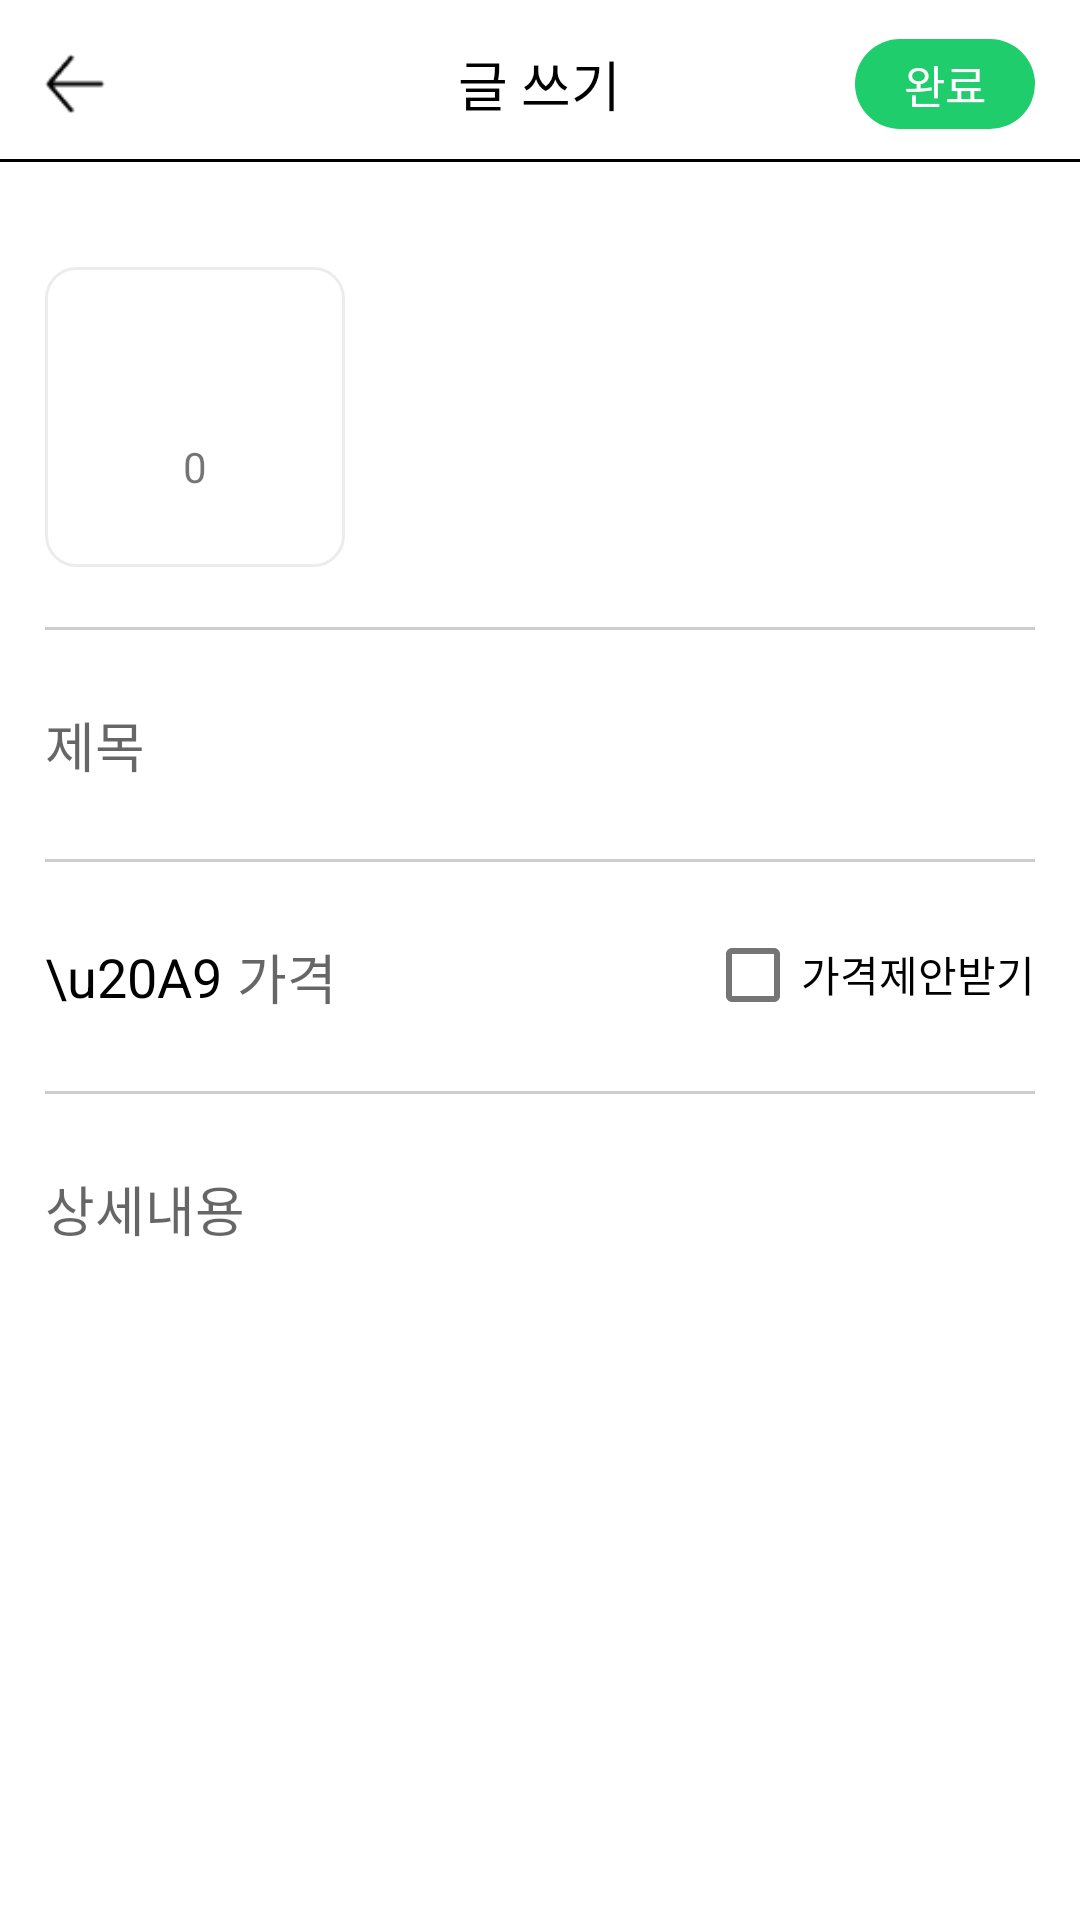

Icon bounding boxes for this 1080 x 1920 phone screenshot, format box=[x1, y1, x2, y2]:
back: box=[46, 54, 104, 113]
